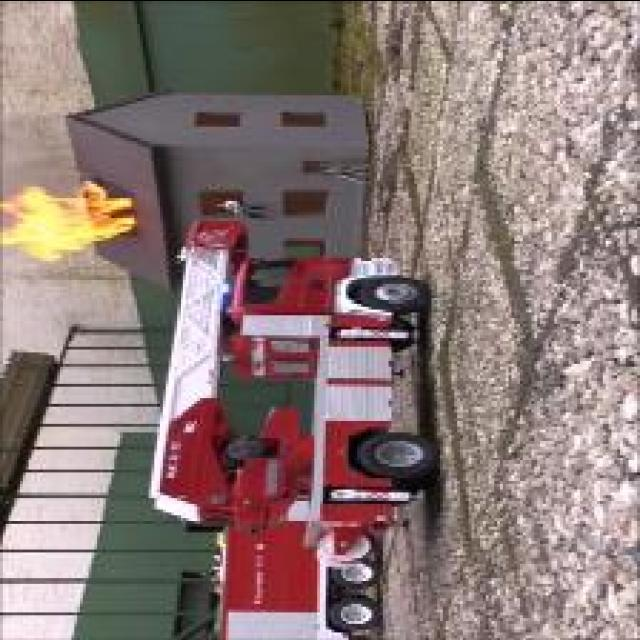Fire: (1, 180, 136, 263)
